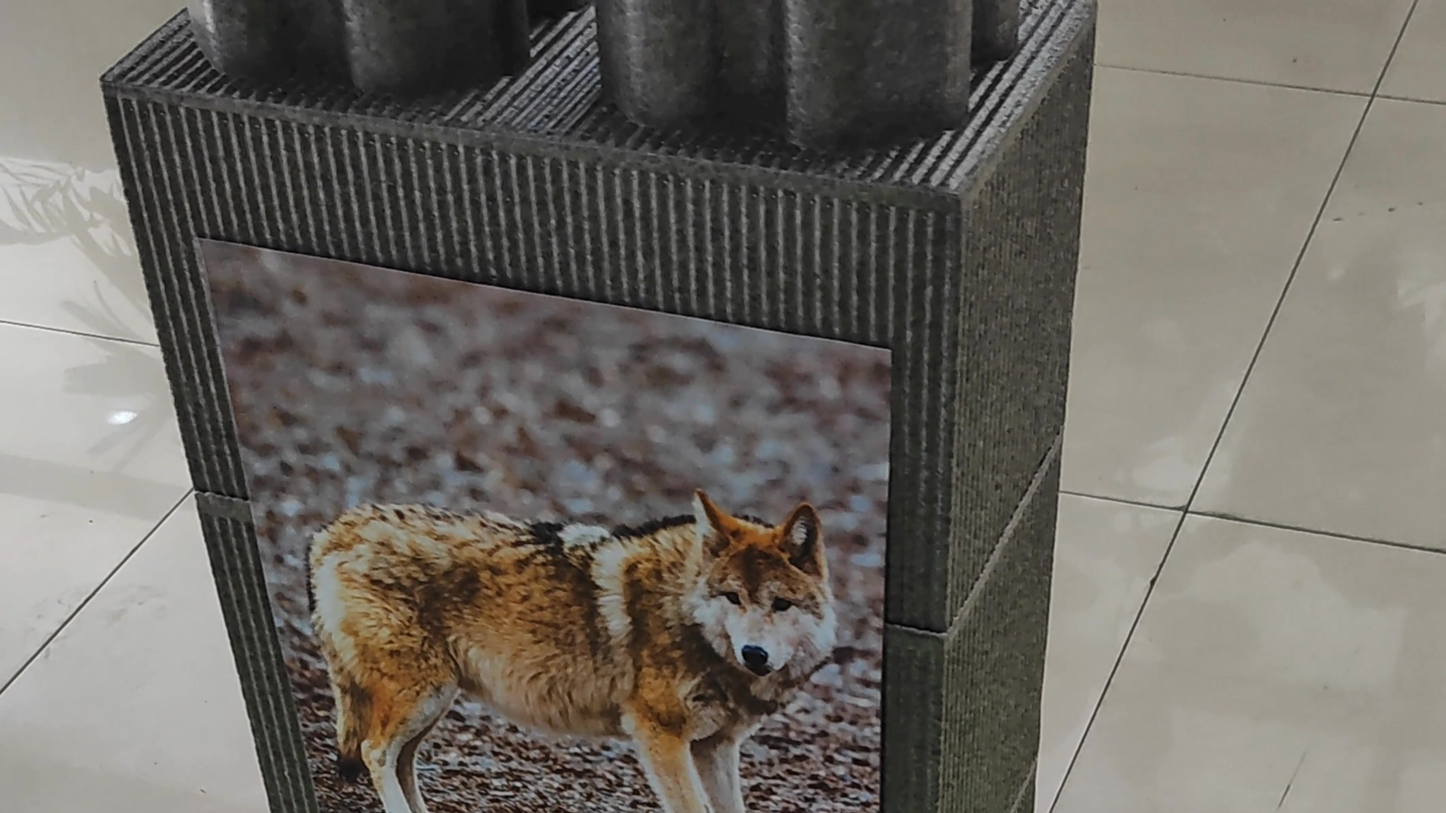wolf: (268, 423, 851, 813)
